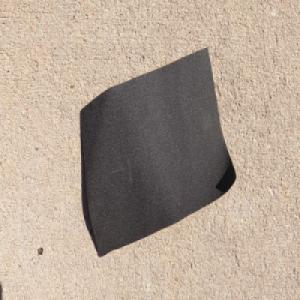PaintChip: (79, 45, 236, 259)
